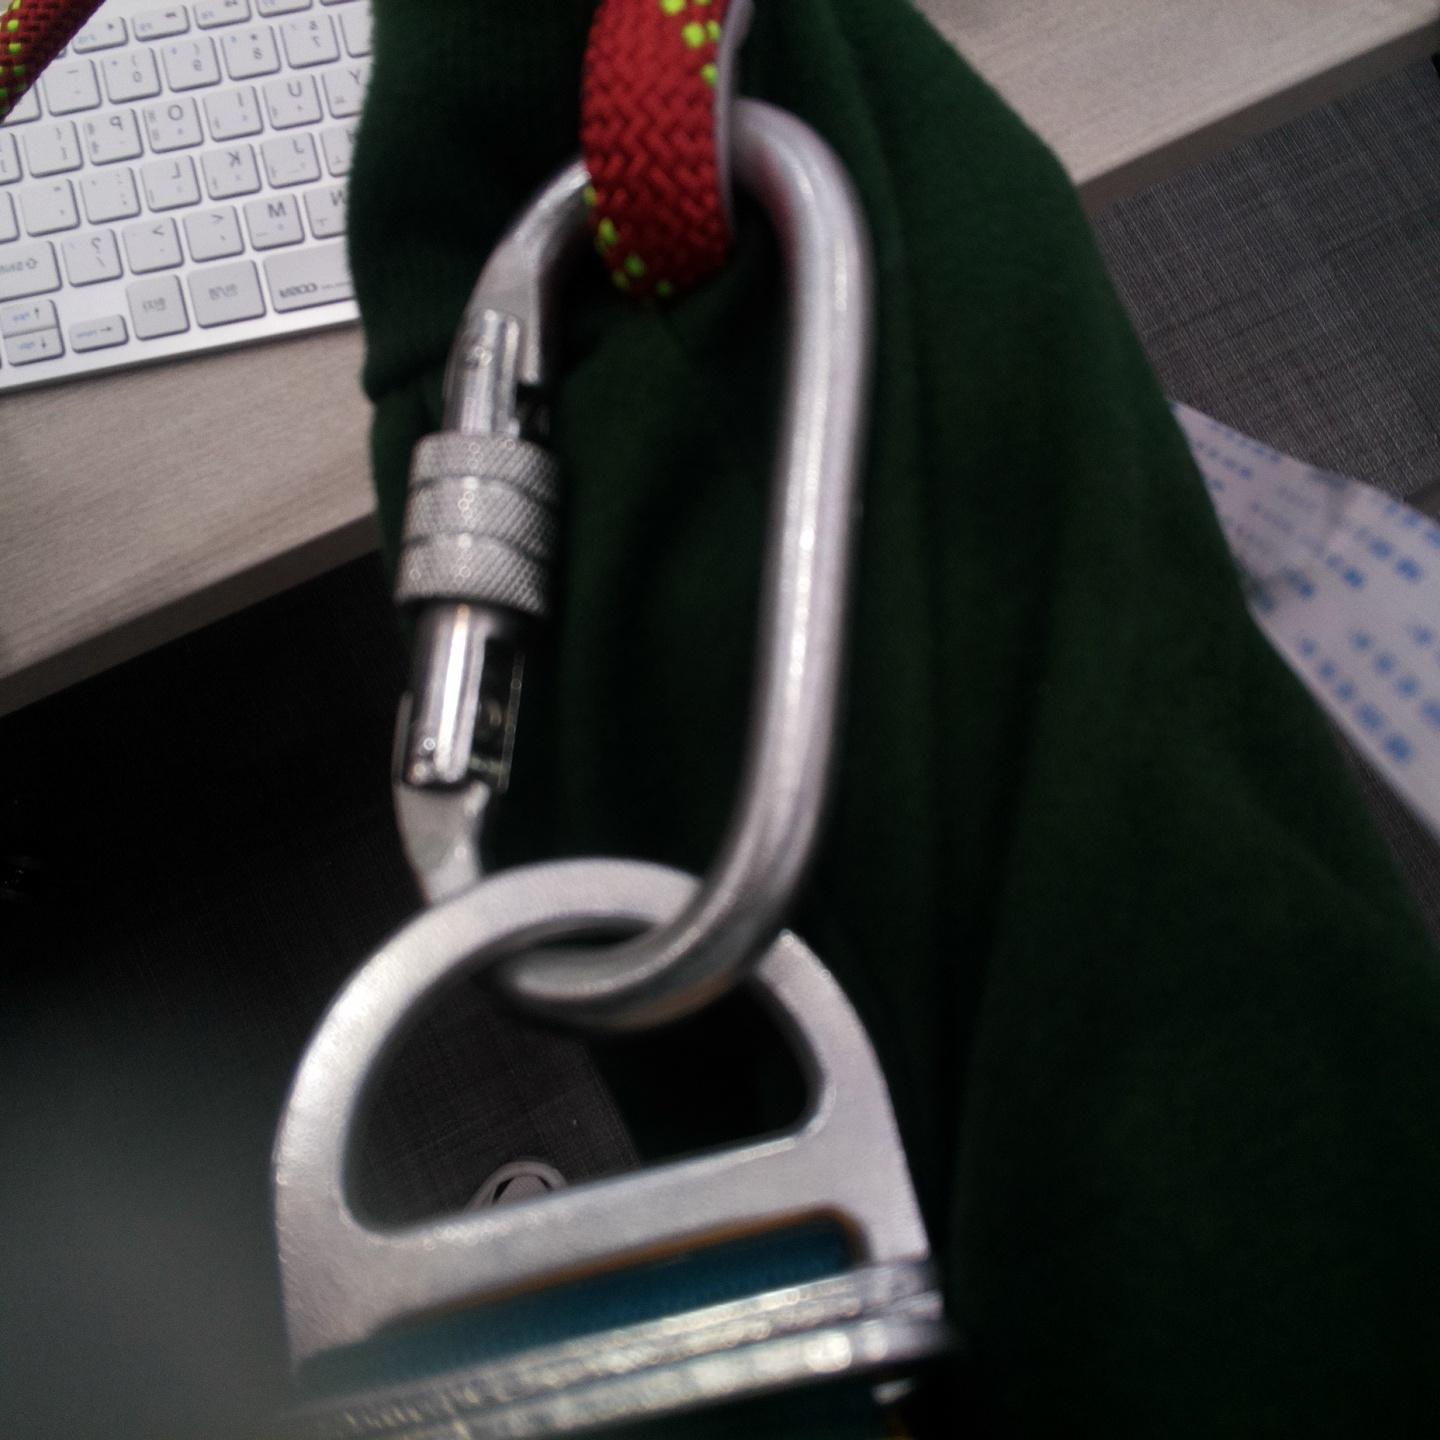SUCCESS: (386, 309, 874, 833)
